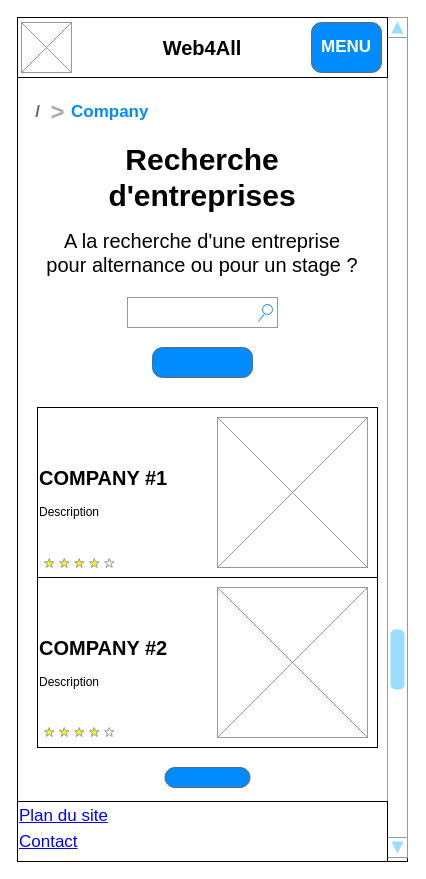
Some shapes in this 426 by 879 pixel diagram are drawn without their labels. The shapes that lost their labels are listed below. From the top down, each one's centre as x and y in pixels, then its label:
At [202,312]: "Search".
At [202,362]: "Affiner".
At [207,777]: "Add".
